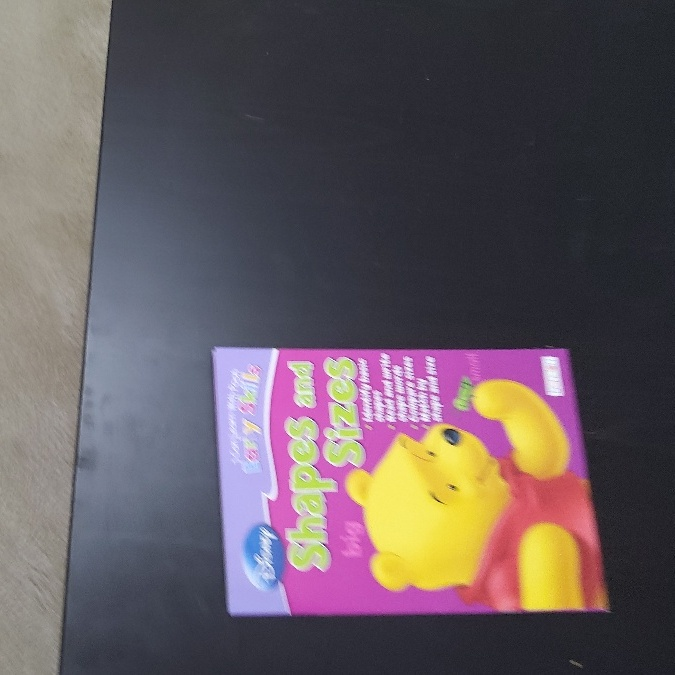book: (214, 347, 603, 616)
